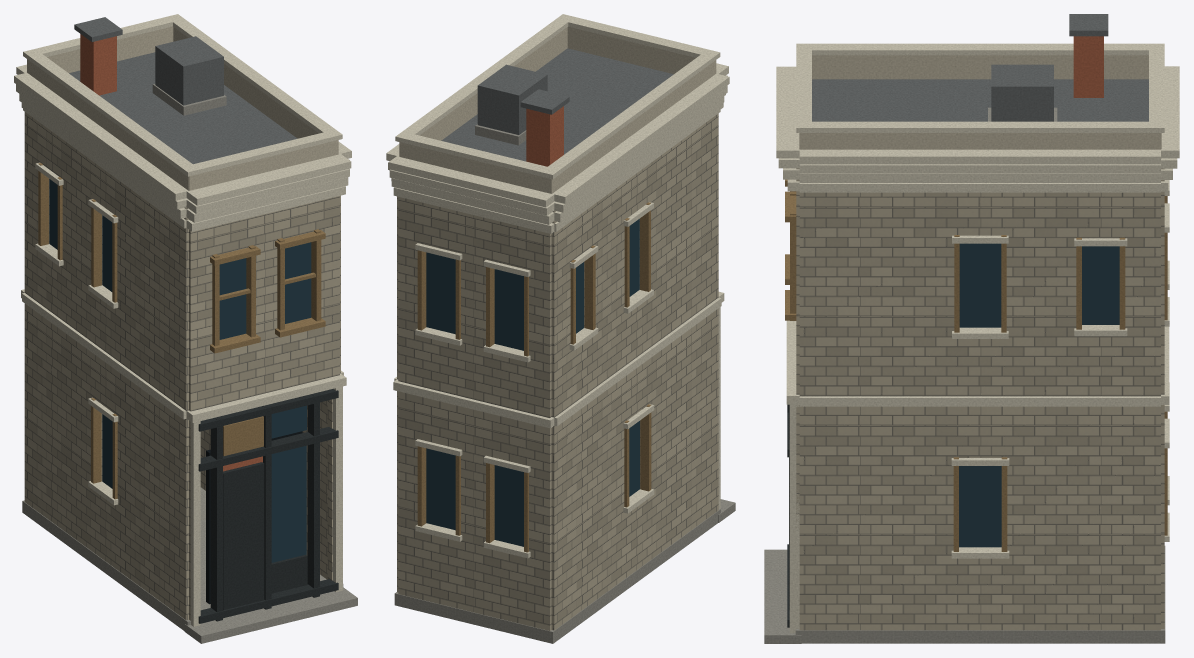
The model's file is BUSS10_lod2.glb.
3 views of the same model, side by side, from view 1: azimuth 30°, elevation 25°; view 2: azimuth 150°, elevation 25°; view 3: azimuth 270°, elevation 25° (orthographic). The views are drawn at different scales.
Visible parts, largest first — view 1: BUSS10_LOD2; view 2: BUSS10_LOD2; view 3: BUSS10_LOD2.
Part boxes in pixels (x1=…): BUSS10_LOD2: x1=14, y1=14, x2=357, y2=643; BUSS10_LOD2: x1=386, y1=14, x2=735, y2=643; BUSS10_LOD2: x1=764, y1=14, x2=1179, y2=643.
Bounding box in the file's own units: 3.78 × 10.25 × 6.9.
Materials: 10 (8 with a texture image).
